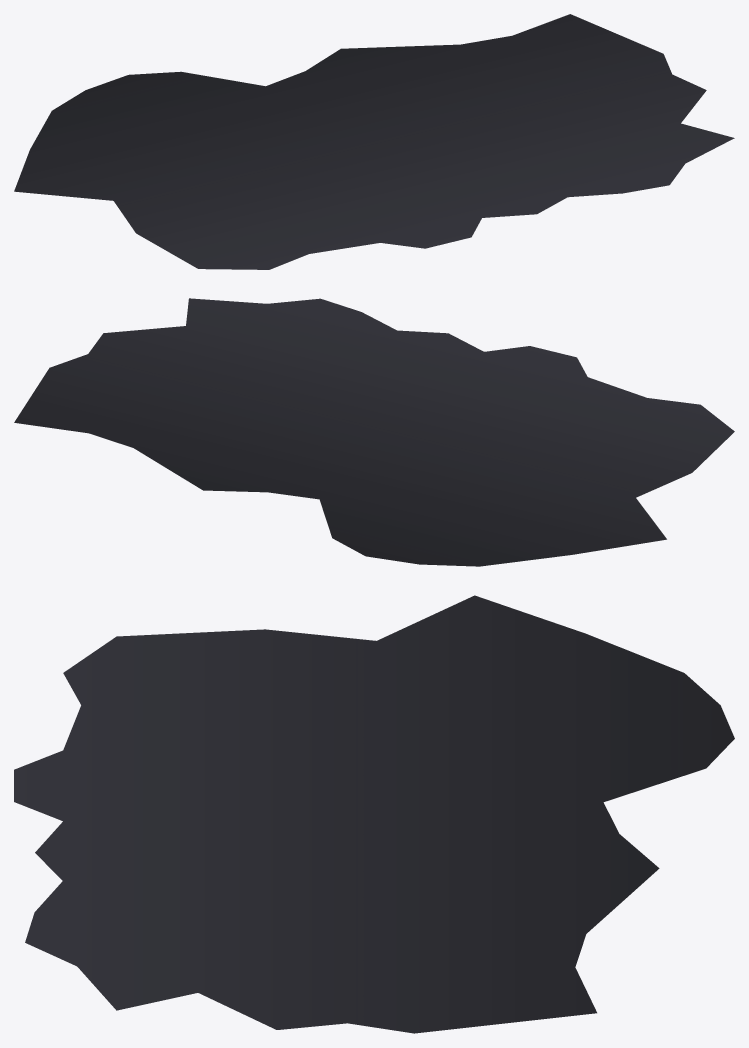
File: Cave_ground.fbx
The picture shows the model from 3 angles, top to bottom: view 1: azimuth 30°, elevation 25°; view 2: azimuth 150°, elevation 25°; view 3: azimuth 270°, elevation 25°; orthographic projection. The views are drawn at different scales.
Parts seen in each view (by area): view 1: wtfCave.004; view 2: wtfCave.004; view 3: wtfCave.004.
Boxes of the visible parts, x1,y1,x2,y2 form: wtfCave.004: (14, 14, 734, 269); wtfCave.004: (14, 298, 734, 566); wtfCave.004: (14, 595, 734, 1033).
Size of the model in its own units: 88.56 by 1e-05 by 61.59.
Materials: 1 (1 with a texture image).
